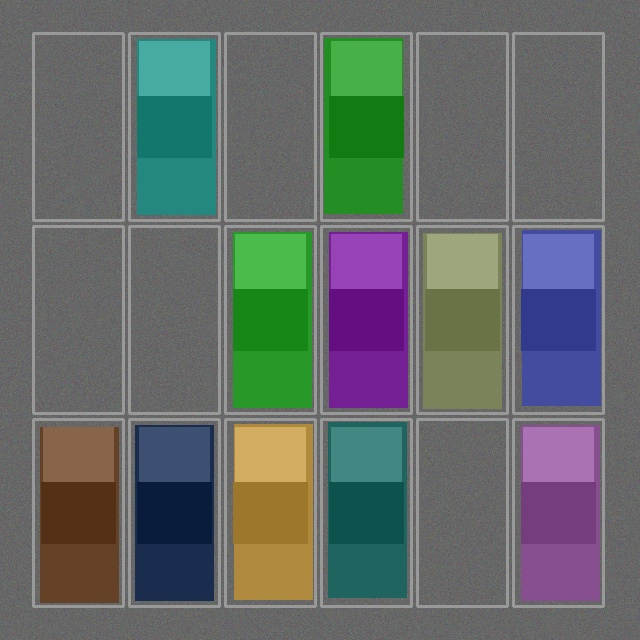space-empty: (35, 35, 121, 218), (227, 35, 313, 218), (419, 35, 505, 218), (515, 35, 601, 218), (35, 228, 121, 411), (131, 228, 217, 411), (419, 421, 505, 604)
space-occupied: (131, 35, 217, 218), (323, 35, 409, 218), (227, 228, 313, 411), (323, 228, 409, 411), (419, 228, 505, 411), (515, 228, 601, 411), (35, 421, 121, 604), (131, 421, 217, 604), (227, 421, 313, 604), (323, 421, 409, 604), (515, 421, 601, 604)
